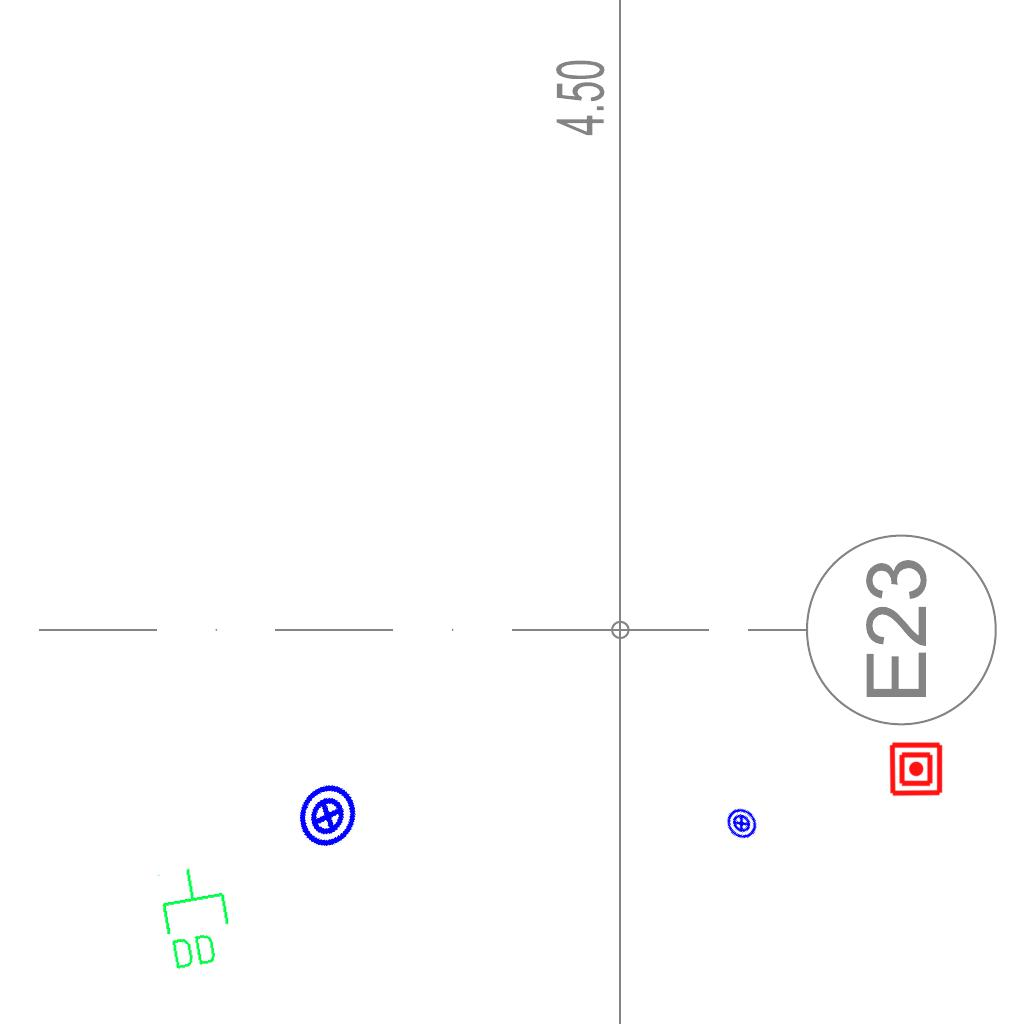Datenanschluss_zweifach: (152, 860, 239, 975)
NAM-Nichtautomatischer_Melder: (888, 741, 944, 797)
Taster_beleuchtet: (285, 773, 371, 859), (718, 800, 765, 847)
